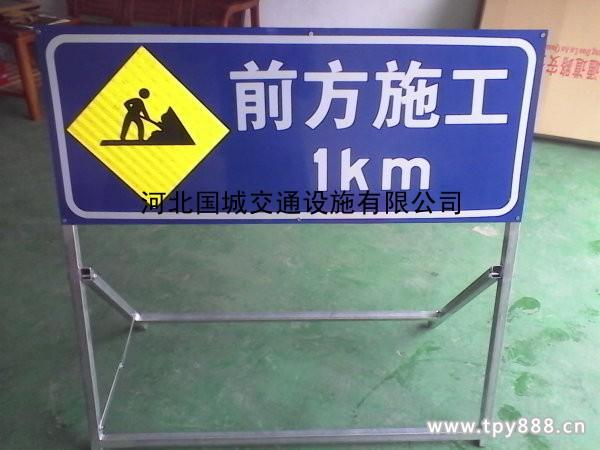sign: (45, 35, 522, 193)
